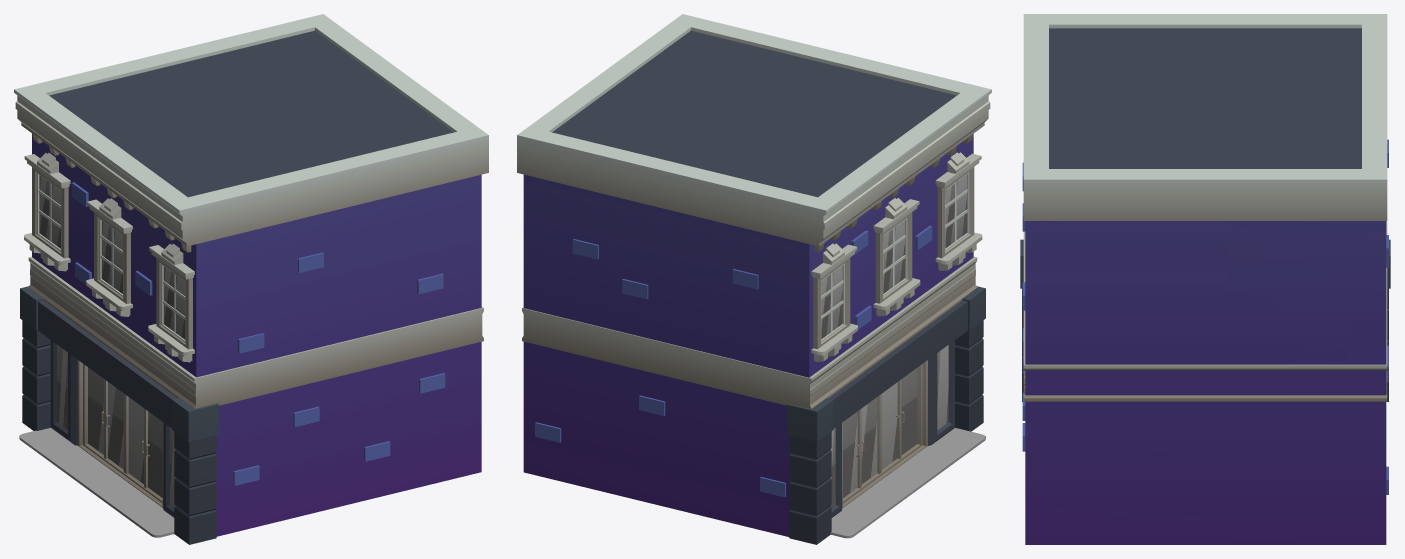
File: Building_21_4_D.fbx
3 views of the same model, side by side, from view 1: azimuth 30°, elevation 25°; view 2: azimuth 150°, elevation 25°; view 3: azimuth 270°, elevation 25° (orthographic). The views are drawn at different scales.
Parts seen in each view (by area): view 1: Building_21_4_D; view 2: Building_21_4_D; view 3: Building_21_4_D.
Part boxes in pixels (x1,y1,x2,y2): Building_21_4_D: [14, 14, 488, 544]; Building_21_4_D: [517, 14, 991, 544]; Building_21_4_D: [1020, 14, 1390, 544].
Bounding box in the file's own units: 779 × 782 × 713.
